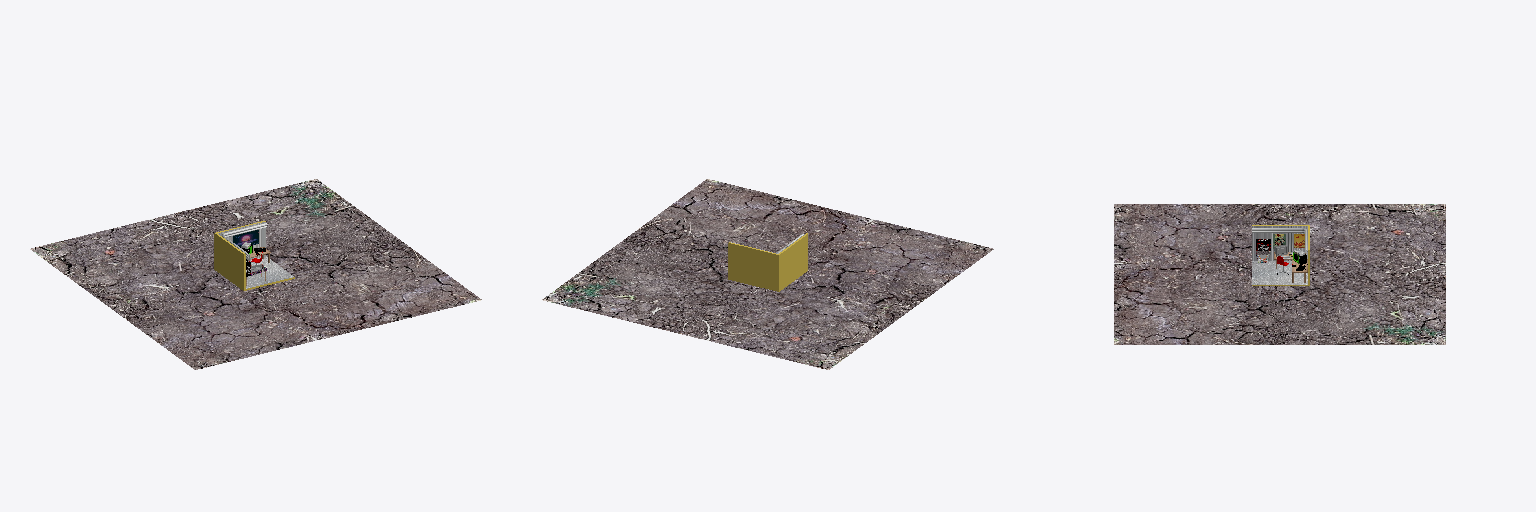
3 renders of one model, left to right at view 1: azimuth 30°, elevation 25°; view 2: azimuth 150°, elevation 25°; view 3: azimuth 270°, elevation 25°, orthographic.
Visible parts, largest first — view 1: BG_Plane_018, Room_Plane; view 2: BG_Plane_018, Room_Plane; view 3: BG_Plane_018, Room_Plane.
Boxes of the visible parts, x1,y1,x2,y2 form: BG_Plane_018: [30, 179, 481, 369]; Room_Plane: [214, 221, 294, 290]; BG_Plane_018: [542, 179, 993, 369]; Room_Plane: [728, 233, 807, 291]; BG_Plane_018: [1114, 204, 1445, 344]; Room_Plane: [1252, 225, 1309, 285].
Bounding box in the file's own units: 631 × 77.9 × 631.
Materials: 22 (15 with a texture image).